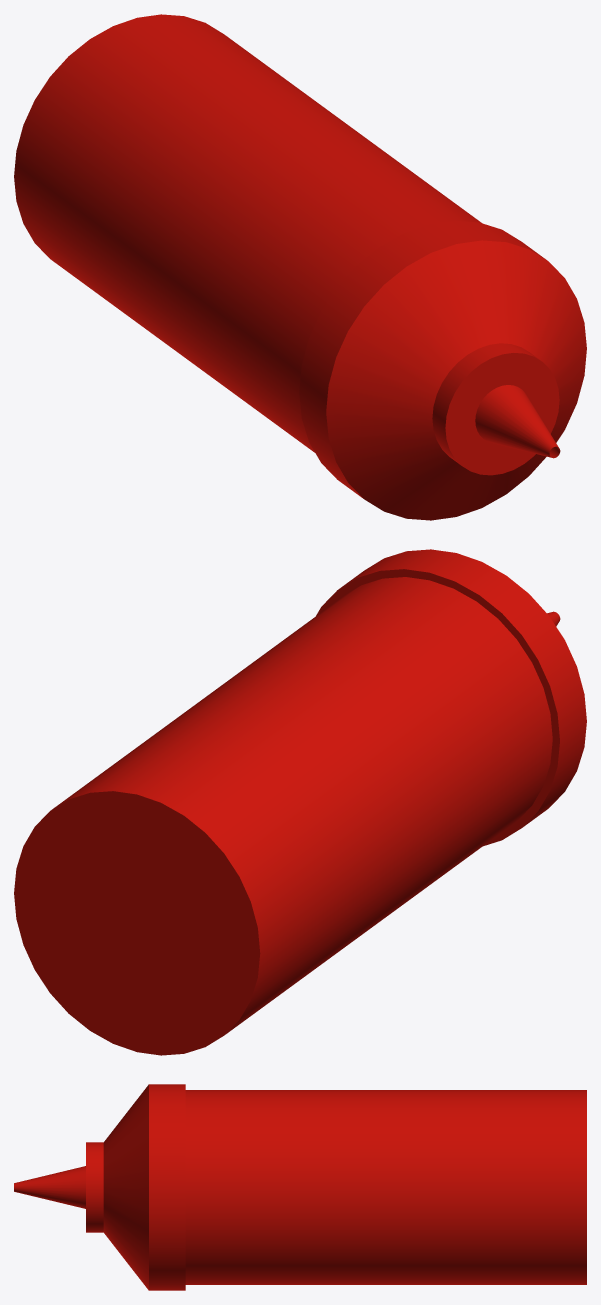
3 renders of one model, top to bottom at view 1: azimuth 30°, elevation 25°; view 2: azimuth 150°, elevation 25°; view 3: azimuth 270°, elevation 25°, orthographic. The views are drawn at different scales.
Bounding box in the file's own units: 0.3605 × 0.3605 × 1.
